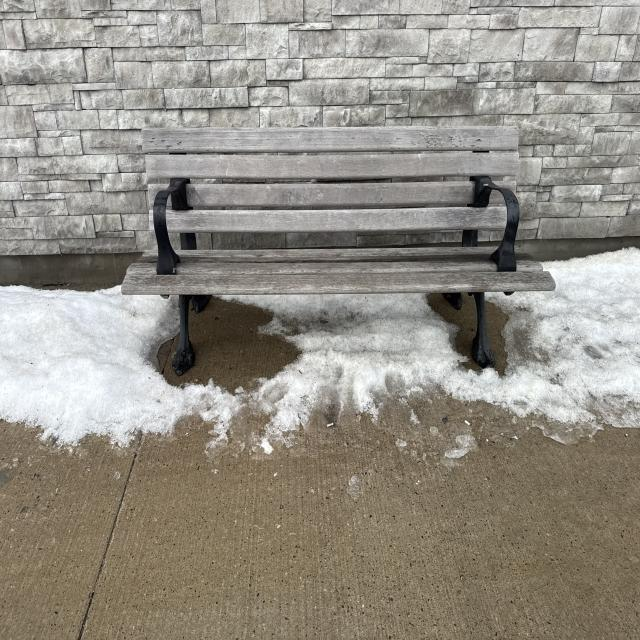Bench: (117, 119, 565, 372)
